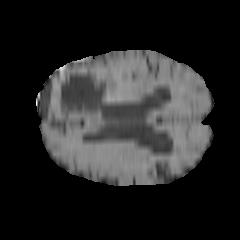glioma: (50, 65, 120, 145)
